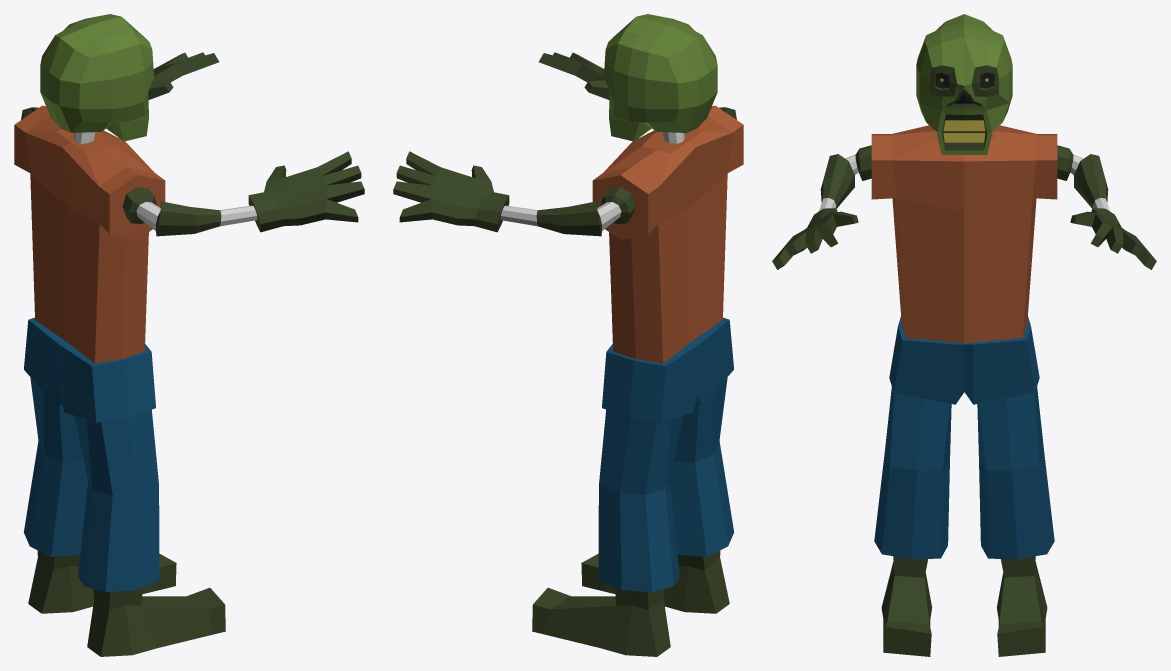
Rendered from zombie.fbx.
3 renders of one model, left to right at view 1: azimuth 30°, elevation 25°; view 2: azimuth 150°, elevation 25°; view 3: azimuth 270°, elevation 25°, orthographic. The views are drawn at different scales.
Visible parts, largest first — view 1: Cube.004, Cube.000, Cube.001, Cube.002, Cube.005; view 2: Cube.004, Cube.001, Cube.000, Cube.005, Cube.002; view 3: Cube.004, Cube.001, Cube.000, Cube.002, Cube.005.
Boxes of the visible parts, x1,y1,x2,y2 form: Cube.004: (14, 14, 165, 422); Cube.000: (74, 409, 225, 656); Cube.001: (23, 377, 176, 613); Cube.002: (122, 151, 364, 236); Cube.005: (21, 52, 218, 119); Cube.004: (592, 14, 743, 422); Cube.001: (532, 409, 683, 656); Cube.000: (581, 377, 734, 613); Cube.005: (393, 151, 635, 236); Cube.002: (539, 52, 736, 119); Cube.004: (871, 14, 1057, 404); Cube.001: (977, 387, 1054, 656); Cube.000: (874, 387, 951, 656); Cube.002: (772, 145, 871, 269); Cube.005: (1057, 145, 1156, 269).
Size of the model in its own units: 521 by 1271 by 757.
